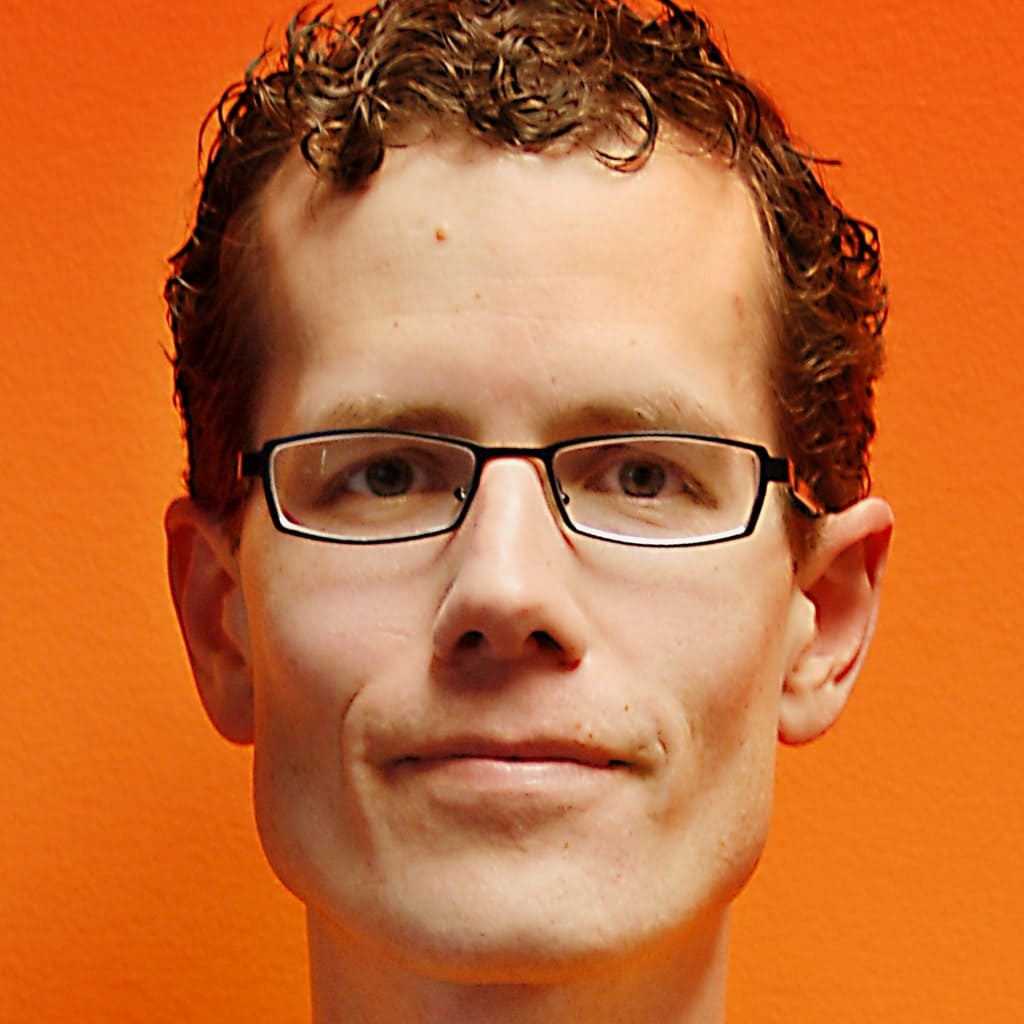without_mask: (255, 282, 778, 836)
